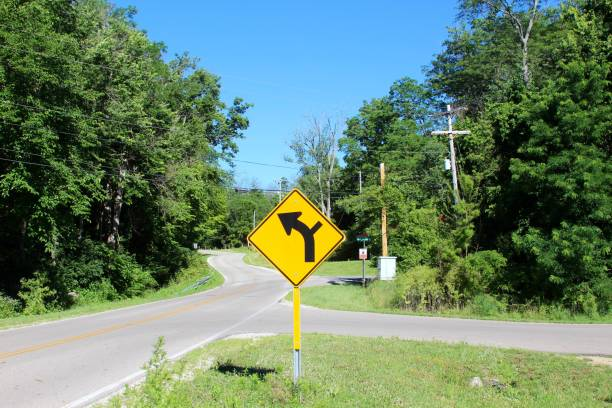left turn: (247, 189, 344, 287)
